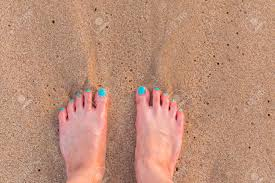Feet: (56, 86, 108, 182), (133, 86, 184, 183)
